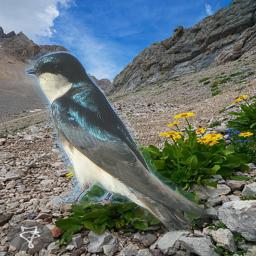Swallow: (25, 51, 211, 232)
